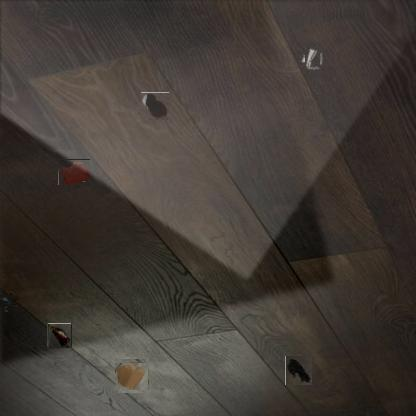dirty: (116, 361, 148, 392), (285, 356, 312, 386), (47, 323, 72, 348), (302, 49, 323, 69), (0, 293, 16, 309)
liquid: (58, 159, 90, 185), (142, 92, 169, 120)
